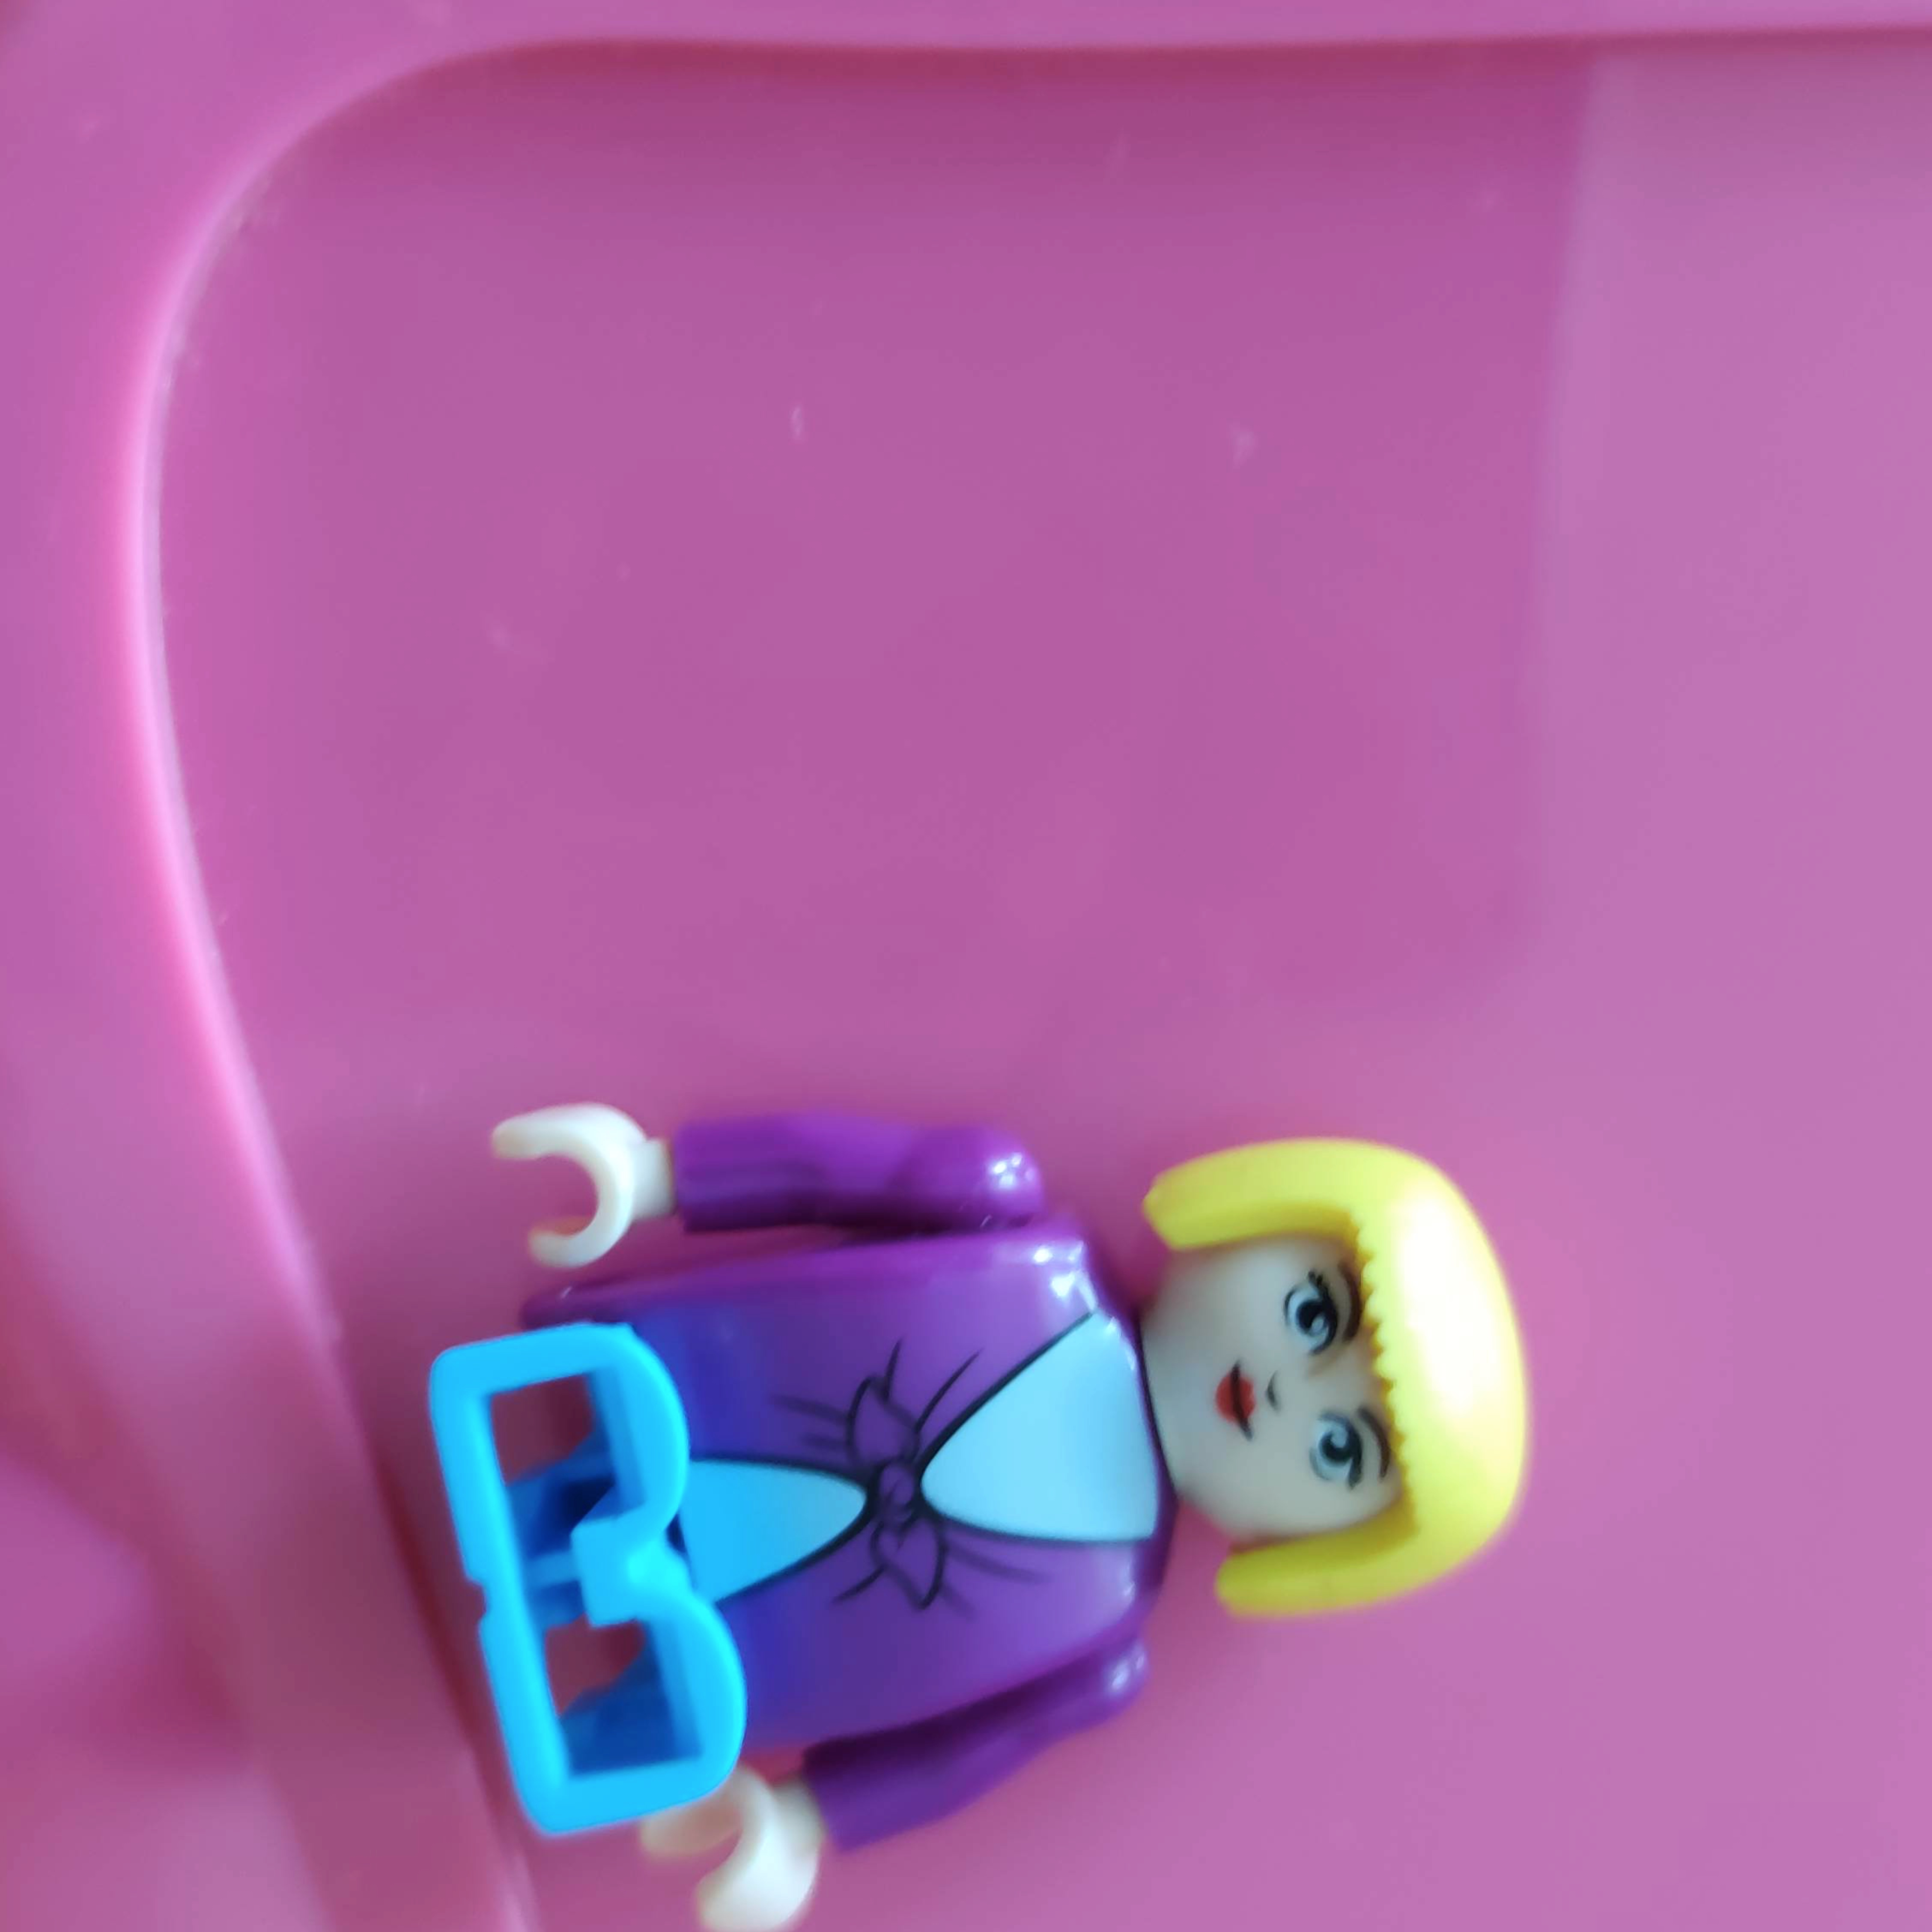lego: (418, 1086, 1529, 1932)
